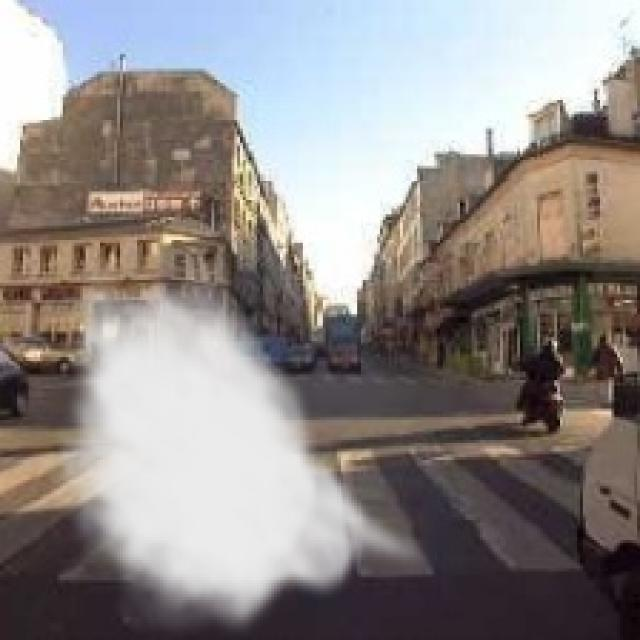smoke: (49, 257, 434, 637)
